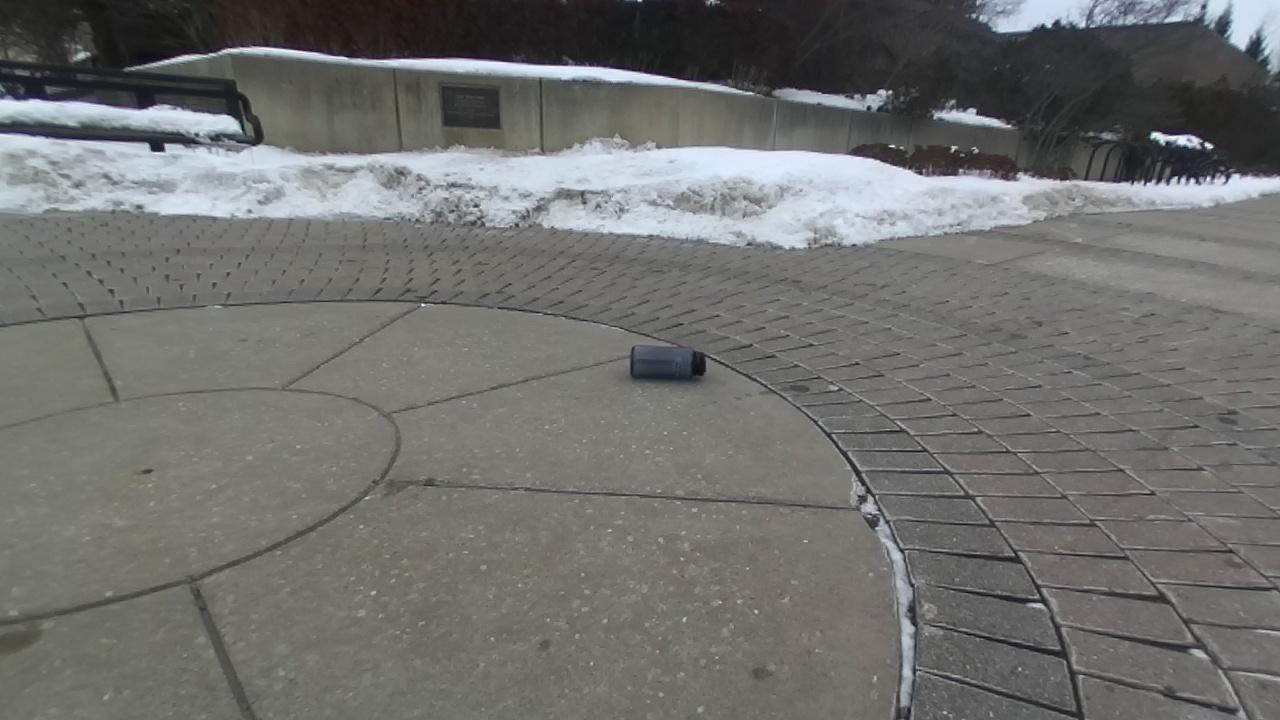bottle: (630, 345, 705, 379)
